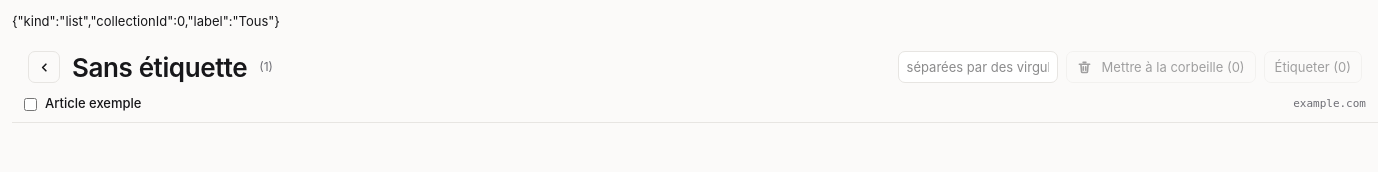
Test: CleanupView › clic sur une ligne de Non-taggés : fiche, vue stable — jamais la lecture
The width and height of the screenshot is (1378, 172).
Click the button "Article exemple".
click(93, 103)  # box left=45, top=94, right=1285, bottom=114
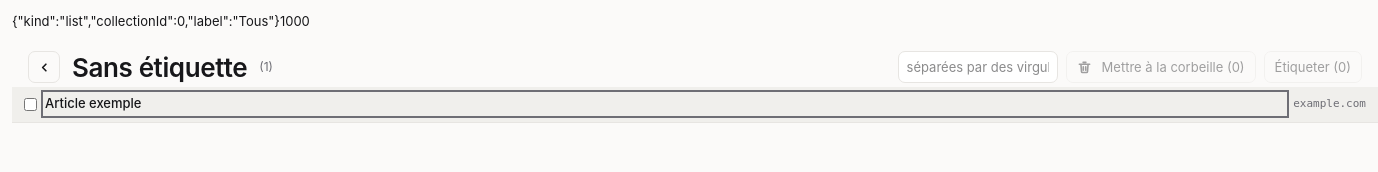
Check: the text with test id "selection" reads "1000", box left=280, top=13, right=310, bottom=29
